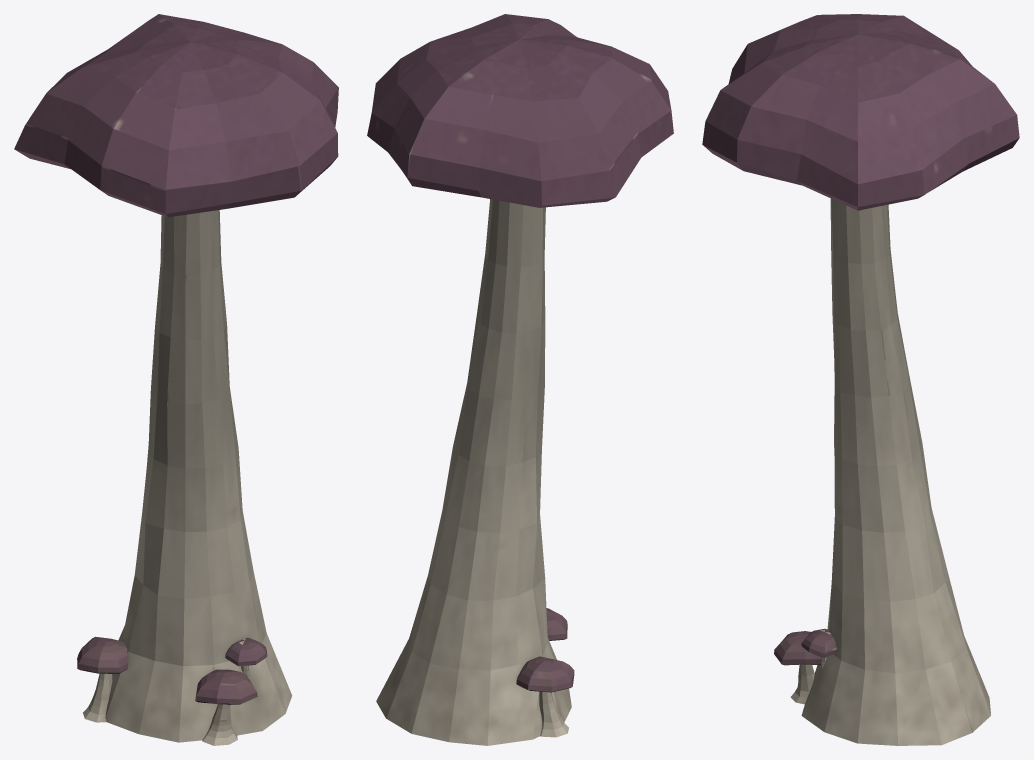
The model's file is cogumelo_gigante_b.glb.
3 renders of one model, left to right at view 1: azimuth 30°, elevation 25°; view 2: azimuth 150°, elevation 25°; view 3: azimuth 270°, elevation 25°, orthographic. The views are drawn at different scales.
Visible parts, largest first — view 1: cogumelo_gigante_b; view 2: cogumelo_gigante_b; view 3: cogumelo_gigante_b.
Boxes of the visible parts, x1,y1,x2,y2 form: cogumelo_gigante_b: (14, 14, 338, 745); cogumelo_gigante_b: (367, 14, 673, 745); cogumelo_gigante_b: (702, 14, 1019, 745).
Size of the model in its own units: 0.92 by 2.08 by 0.9059.
2 materials, 1 textured.
